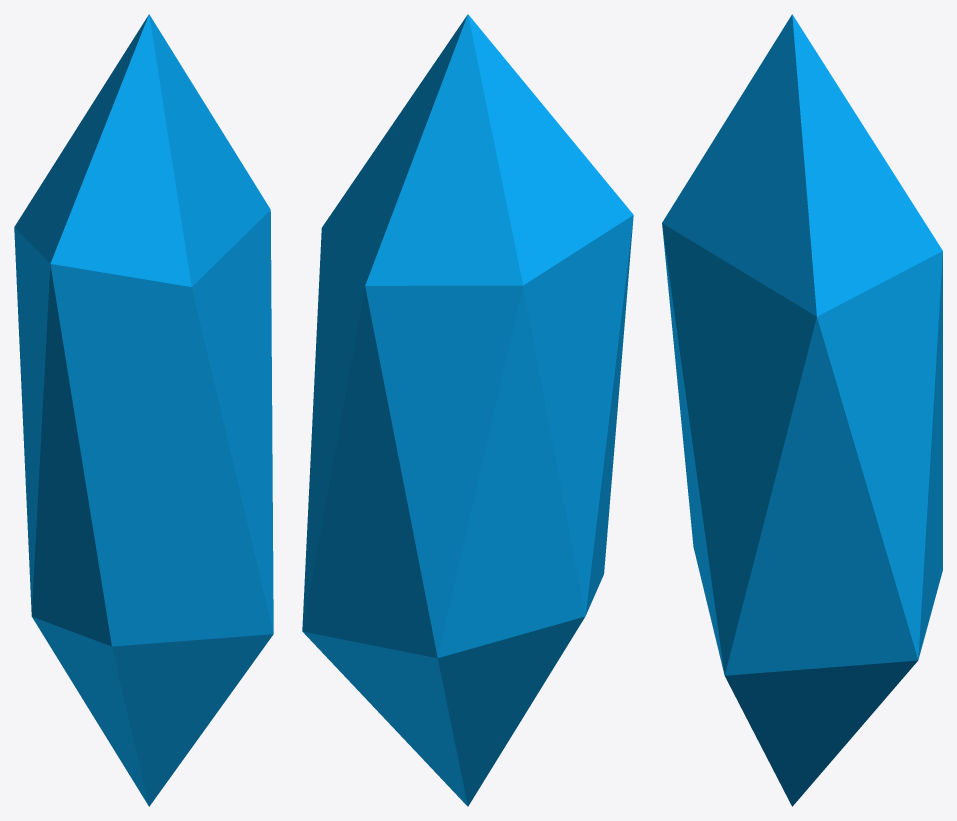
Rendered from 4DCrystal.fbx.
The picture shows the model from 3 angles, left to right: view 1: azimuth 30°, elevation 25°; view 2: azimuth 150°, elevation 25°; view 3: azimuth 270°, elevation 25°; orthographic projection.
Visible parts, largest first — view 1: Icosphere; view 2: Icosphere; view 3: Icosphere.
Boxes of the visible parts, x1=… form: Icosphere: x1=14, y1=14, x2=273, y2=806; Icosphere: x1=302, y1=14, x2=633, y2=806; Icosphere: x1=662, y1=14, x2=942, y2=806.
Size of the model in its own units: 203 by 577 by 185.
